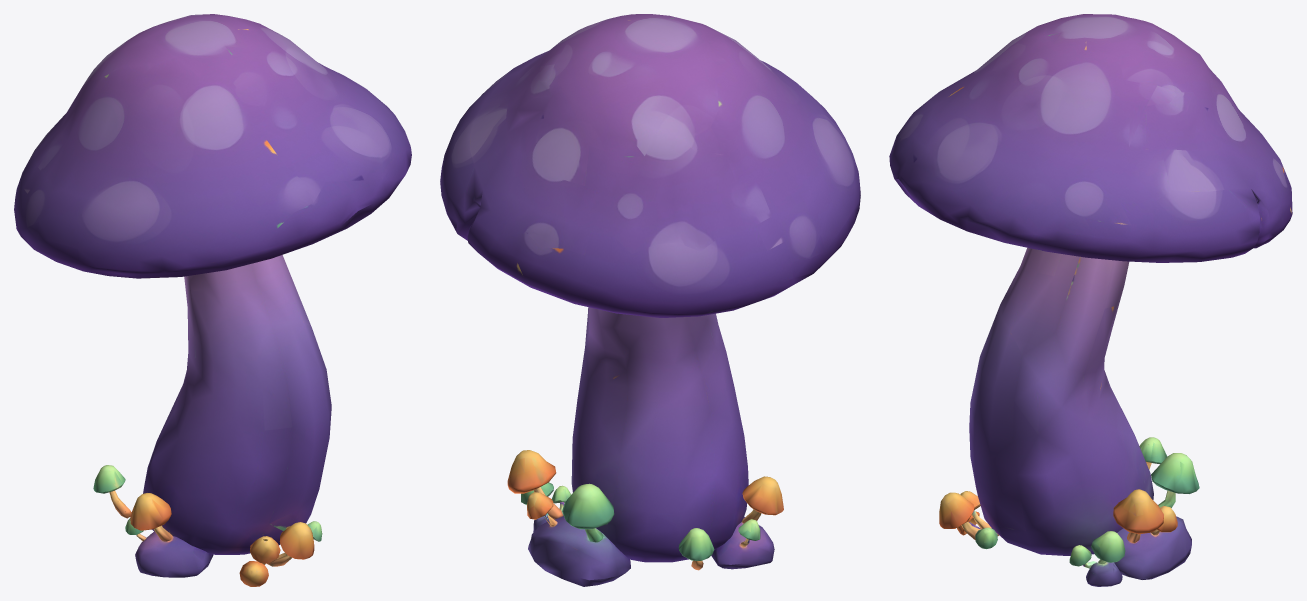
File: L9_MushroomLamp_LOD1.fbx
3 views of the same model, side by side, from view 1: azimuth 30°, elevation 25°; view 2: azimuth 150°, elevation 25°; view 3: azimuth 270°, elevation 25° (orthographic). The views are drawn at different scales.
Visible parts, largest first — view 1: L9_MushroomLamp_LOD1; view 2: L9_MushroomLamp_LOD1; view 3: L9_MushroomLamp_LOD1.
Part boxes in pixels (bbox=[...]): L9_MushroomLamp_LOD1: bbox=[14, 14, 411, 586]; L9_MushroomLamp_LOD1: bbox=[440, 14, 860, 586]; L9_MushroomLamp_LOD1: bbox=[889, 14, 1292, 586].
Bounding box in the file's own units: 1.7 × 2.4 × 1.71.
Materials: 1 (1 with a texture image).
